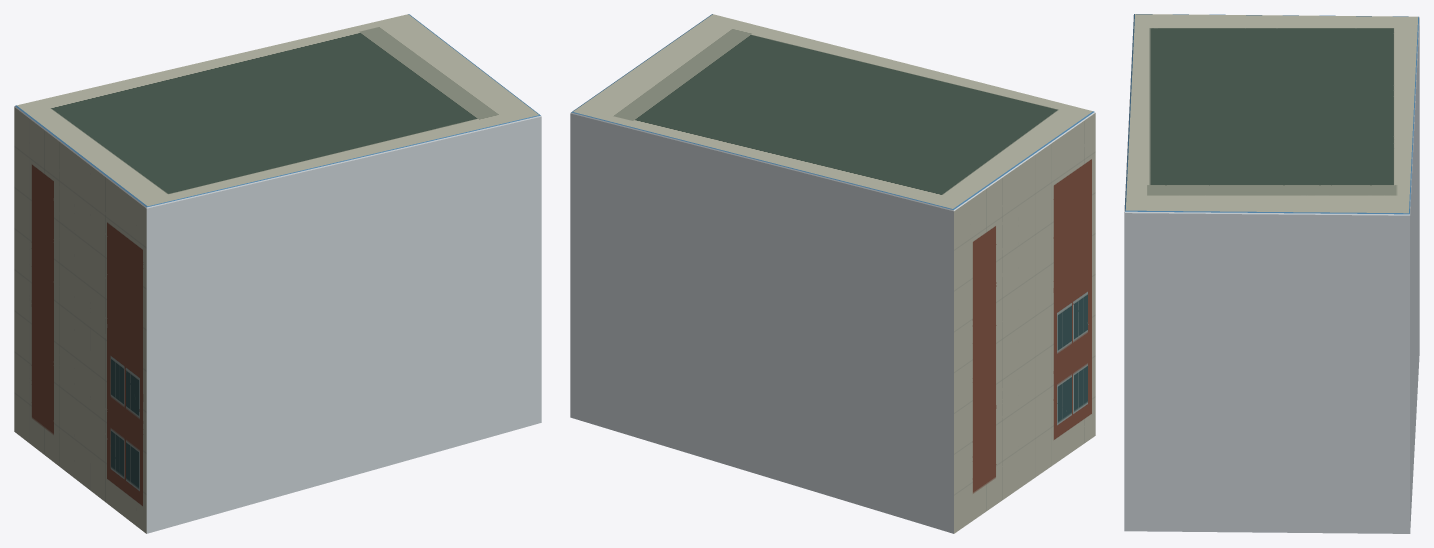
Rendered from fragments.glb.
3 views of the same model, side by side, from view 1: azimuth 30°, elevation 25°; view 2: azimuth 150°, elevation 25°; view 3: azimuth 270°, elevation 25° (orthographic). The views are drawn at different scales.
Visible parts, largest first — view 1: SM_safety_Fragment_038, SM_safety_Fragment_023, SM_safety_Fragment_020, SM_safety_Fragment_013, SM_safety_Fragment_004, SM_safety_Fragment_012, SM_safety_Fragment_028, SM_safety_Fragment_007, SM_safety_Fragment_027, SM_safety_Fragment_010, SM_safety_Fragment_000, SM_safety_Fragment_055 (+22 smaller); view 2: SM_safety_Fragment_001, SM_safety_Fragment_008, SM_safety_Fragment_037, SM_safety_Fragment_040, SM_safety_Fragment_005, SM_safety_Fragment_022, SM_safety_Fragment_045, SM_safety_Fragment_030, SM_safety_Fragment_043, SM_safety_Fragment_042, SM_safety_Fragment_053, SM_safety_Fragment_035 (+23 smaller); view 3: SM_safety_Fragment_011, SM_safety_Fragment_009, SM_safety_Fragment_050, SM_safety_Fragment_056, SM_safety_Fragment_002, SM_safety_Fragment_057, SM_safety_Fragment_003, SM_safety_Fragment_032, SM_safety_Fragment_044, SM_safety_Fragment_024, SM_safety_Fragment_061, SM_safety_Fragment_040 (+17 smaller).
Part boxes in pixels (x1,y1,x2,y2): SM_safety_Fragment_038: (109, 266, 228, 431); SM_safety_Fragment_023: (265, 146, 397, 280); SM_safety_Fragment_020: (208, 356, 358, 479); SM_safety_Fragment_013: (146, 158, 280, 277); SM_safety_Fragment_004: (210, 235, 340, 373); SM_safety_Fragment_012: (322, 260, 427, 405); SM_safety_Fragment_028: (397, 124, 514, 271); SM_safety_Fragment_007: (90, 402, 207, 533); SM_safety_Fragment_027: (422, 307, 541, 437); SM_safety_Fragment_010: (417, 237, 541, 352); SM_safety_Fragment_000: (323, 385, 466, 483); SM_safety_Fragment_055: (319, 106, 447, 226); SM_safety_Fragment_001: (892, 184, 1016, 348); SM_safety_Fragment_008: (690, 122, 839, 248); SM_safety_Fragment_037: (860, 319, 993, 469); SM_safety_Fragment_040: (808, 152, 964, 274); SM_safety_Fragment_005: (837, 417, 982, 533); SM_safety_Fragment_022: (767, 188, 896, 328); SM_safety_Fragment_045: (704, 247, 821, 379); SM_safety_Fragment_030: (593, 96, 726, 210); SM_safety_Fragment_043: (680, 348, 789, 474); SM_safety_Fragment_042: (615, 278, 722, 383); SM_safety_Fragment_053: (774, 316, 877, 426); SM_safety_Fragment_035: (944, 258, 1034, 410); SM_safety_Fragment_011: (1160, 394, 1307, 532); SM_safety_Fragment_009: (1289, 188, 1411, 320); SM_safety_Fragment_050: (1226, 234, 1355, 382); SM_safety_Fragment_056: (1272, 359, 1411, 481); SM_safety_Fragment_002: (1150, 160, 1307, 293); SM_safety_Fragment_057: (1124, 271, 1227, 399); SM_safety_Fragment_003: (1306, 417, 1411, 533); SM_safety_Fragment_032: (1124, 172, 1200, 284); SM_safety_Fragment_044: (1219, 125, 1356, 194); SM_safety_Fragment_024: (1212, 15, 1358, 68); SM_safety_Fragment_061: (1167, 56, 1327, 103); SM_safety_Fragment_040: (1325, 21, 1419, 128).
Bounding box in the file's own units: 2.2 × 1.74 × 1.37.
Materials: 4 (1 with a texture image).
